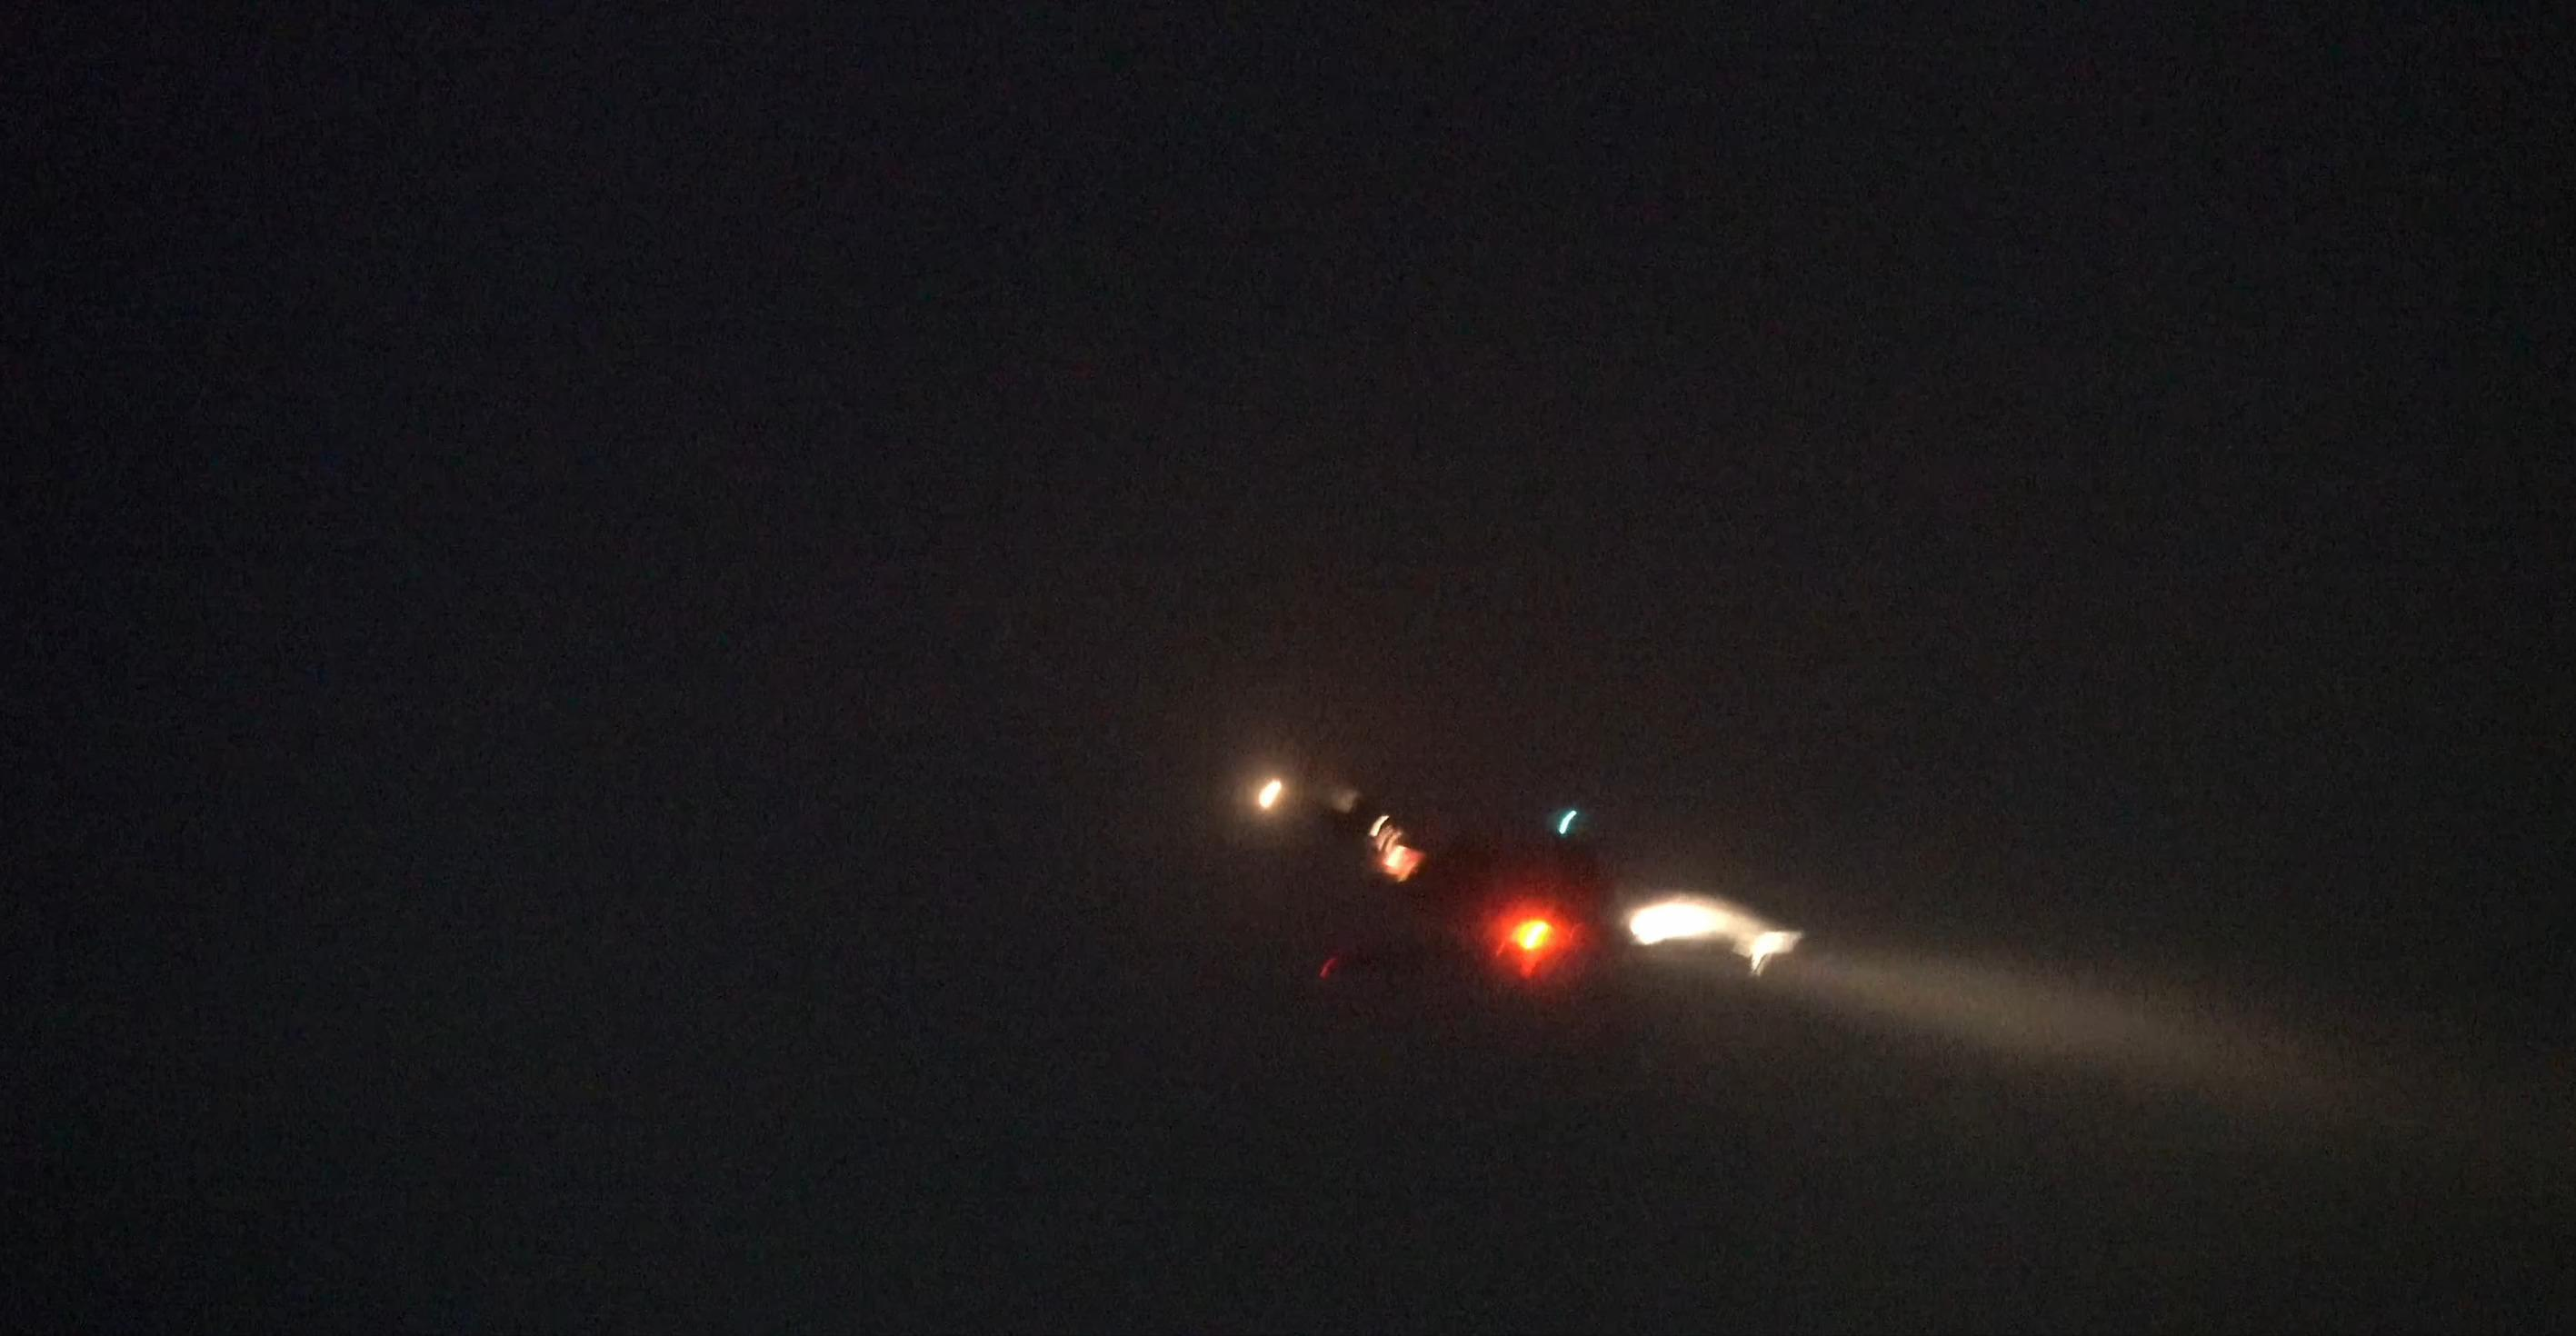Plane: (1237, 772, 1818, 1002)
